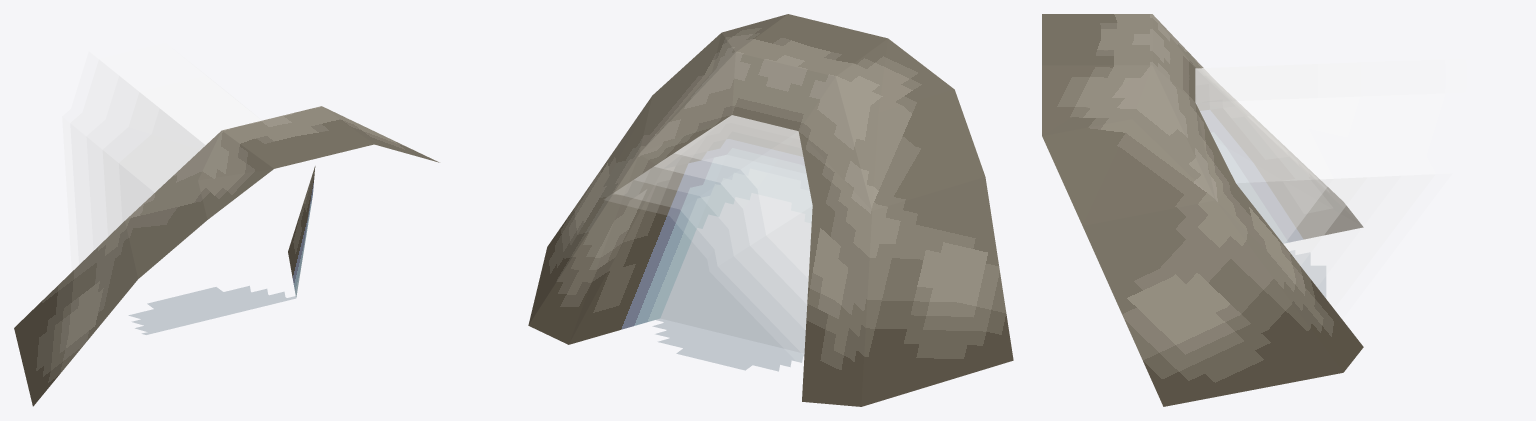
The picture shows the model from 3 angles, left to right: view 1: azimuth 30°, elevation 25°; view 2: azimuth 150°, elevation 25°; view 3: azimuth 270°, elevation 25°; orthographic projection. The views are drawn at different scales.
Size of the model in its own units: 3.5 by 1.69 by 2.96.
Materials: 2 (2 with a texture image).
